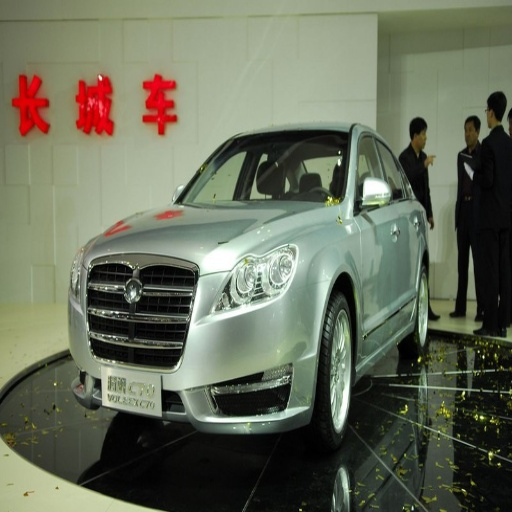front_bumper: (69, 250, 324, 439)
front_glass: (177, 134, 346, 207)
front_left_door: (353, 131, 398, 338)
